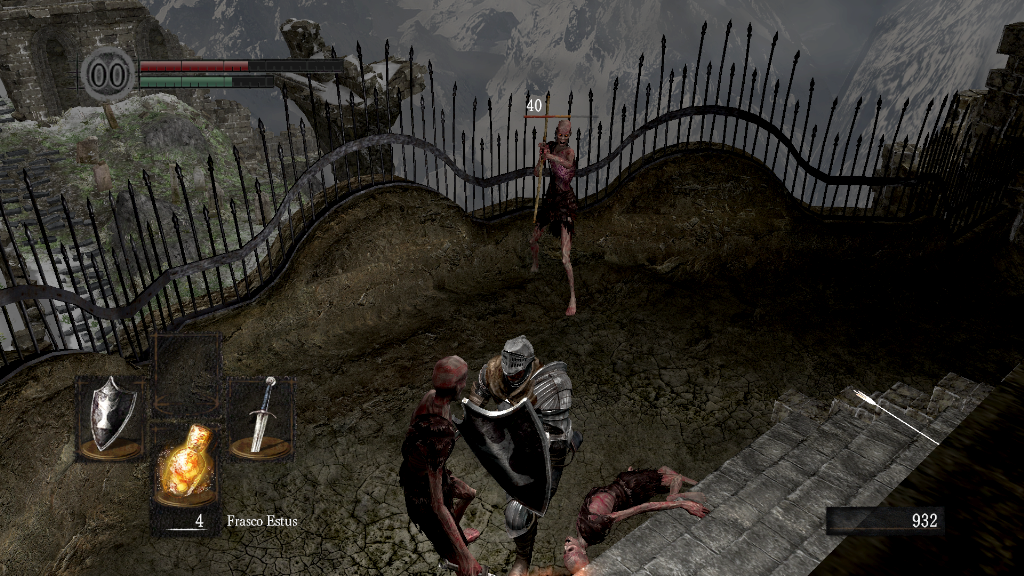health: (138, 58, 343, 71)
hollow: (393, 354, 479, 576), (527, 116, 584, 315)
humanity: (80, 45, 136, 102)
player: (451, 335, 573, 576)
souls: (825, 506, 945, 536)
stamina: (138, 74, 274, 88)
